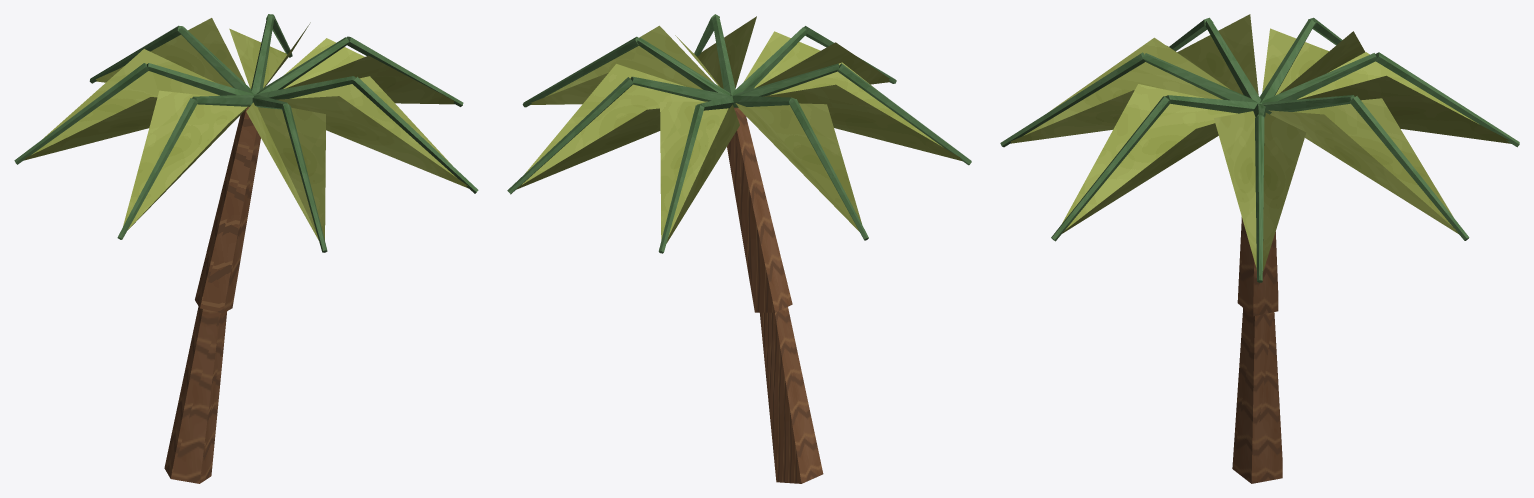
The model's file is arvore-palmeira-v03.gltf.
The picture shows the model from 3 angles, left to right: view 1: azimuth 30°, elevation 25°; view 2: azimuth 150°, elevation 25°; view 3: azimuth 270°, elevation 25°; orthographic projection. The views are drawn at different scales.
Parts seen in each view (by area): view 1: tronco-galhos-copa; view 2: tronco-galhos-copa; view 3: tronco-galhos-copa.
Boxes of the visible parts, <box> form: tronco-galhos-copa: <box>14,14,478,483</box>; tronco-galhos-copa: <box>507,14,971,483</box>; tronco-galhos-copa: <box>1000,14,1519,483</box>.
Bounding box in the file's own units: 3.83 × 3.71 × 3.93.
Materials: 1 (1 with a texture image).
